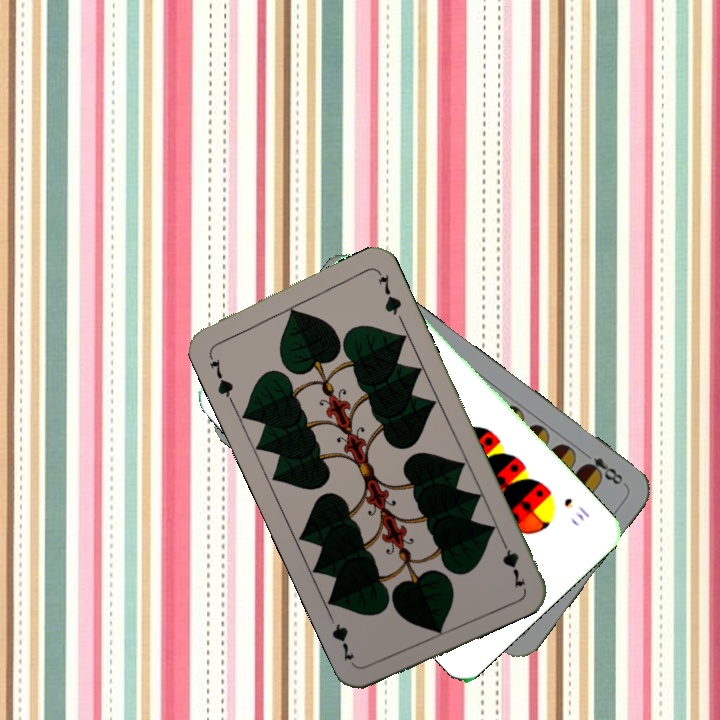E8: (578, 446, 626, 488)
G7: (496, 533, 528, 591), (204, 348, 236, 404)
S10: (559, 493, 593, 524)
